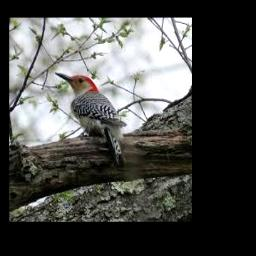Woodpecker: (54, 72, 126, 165)
